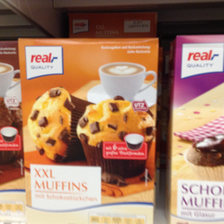cake: (16, 36, 161, 224), (168, 33, 224, 220)
